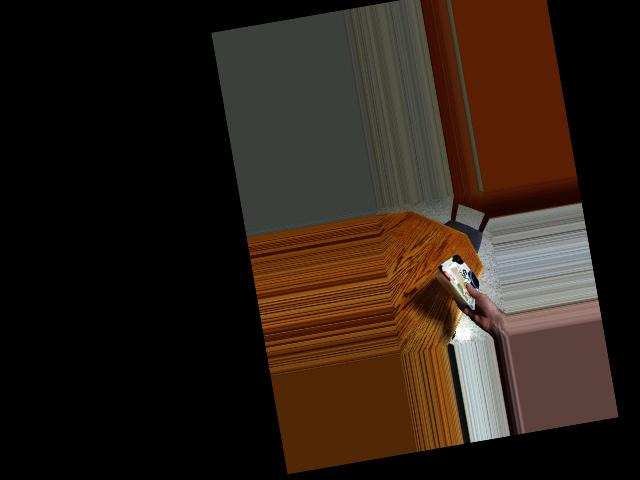cheese: (428, 252, 489, 307)
